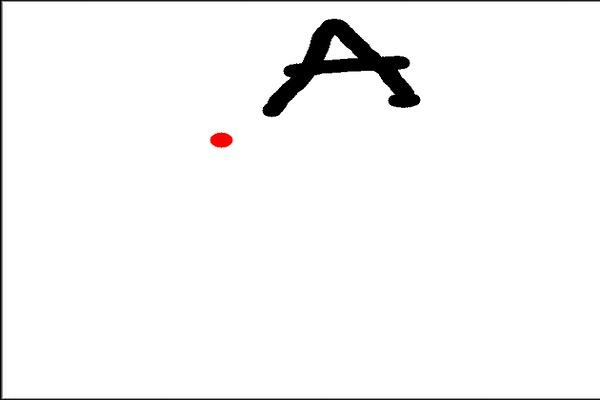A: (256, 16, 427, 117)
